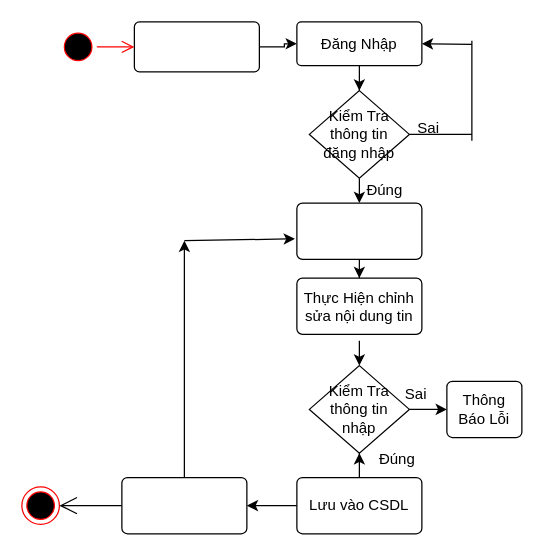
This 544x556 diagram has some shape labels left out. Each missing label, with the centre of its shape:
Thông Báo Thành Công: point 184,505
Trang Chỉnh Sửa Tin: point 359,230
Yêu Cầu Chỉnh Sửa Tin Đăng: point 196,46
